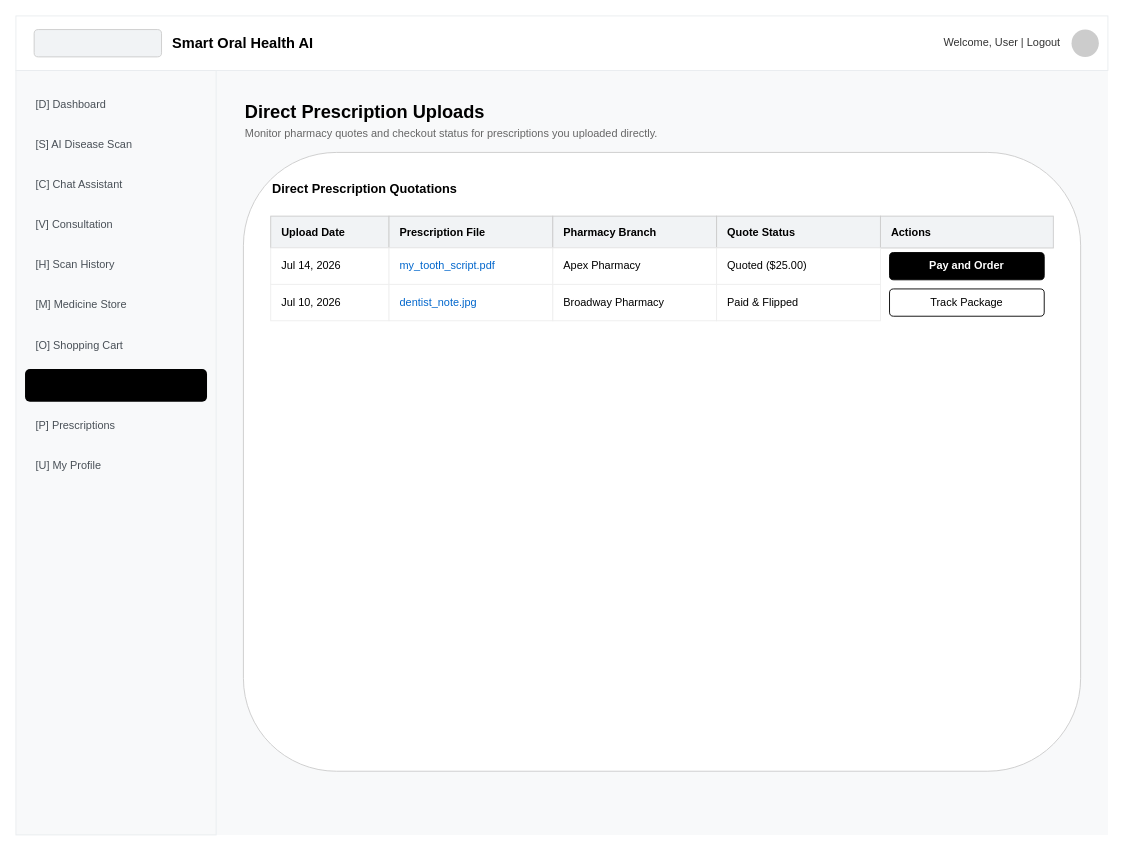
This 1124x851 diagram has some shape labels left out. Here are the shapes that lost their labels. From the top down, the centre of each, then its label:
(x=97, y=43): Tooth Mascot [Animated]
(x=116, y=385): [T] Track Orders
